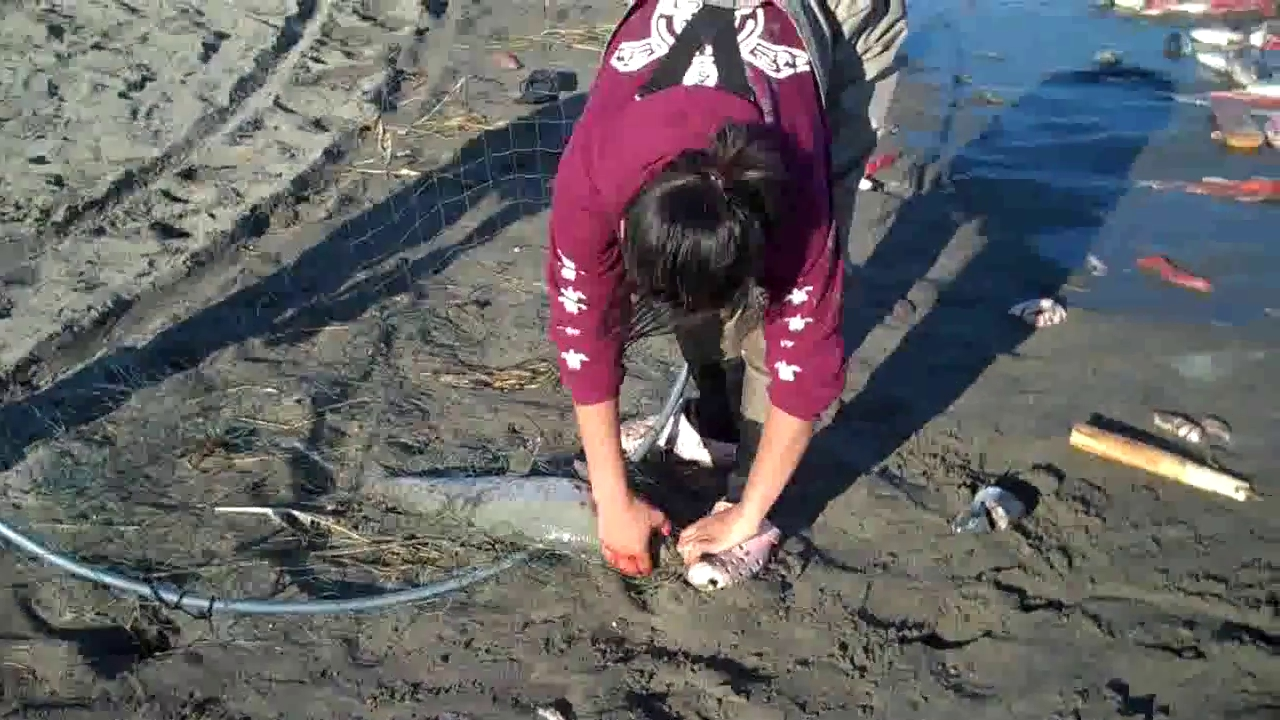person: (547, 1, 910, 578)
